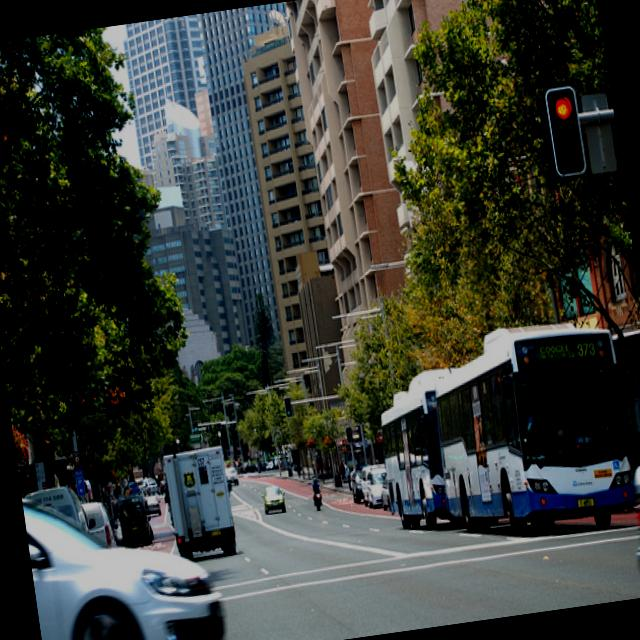Vehicle: (368, 313, 640, 563), (22, 471, 230, 640), (158, 443, 240, 562), (24, 482, 90, 544), (622, 455, 640, 598), (115, 492, 155, 548), (81, 500, 117, 550), (358, 462, 391, 506), (364, 468, 392, 509), (260, 484, 288, 514), (378, 473, 392, 512), (140, 477, 160, 498), (144, 496, 162, 516), (312, 486, 323, 512), (225, 464, 239, 484)
